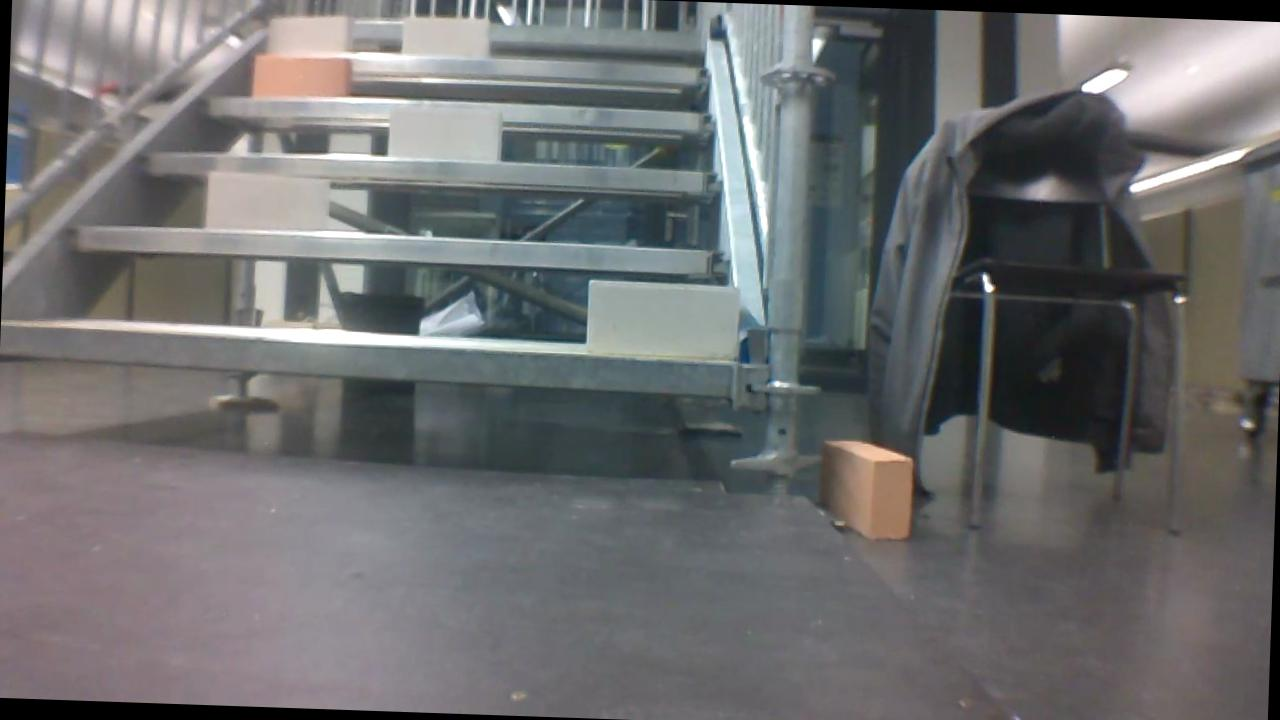brick: (587, 277, 739, 356), (208, 171, 327, 230), (387, 108, 502, 160), (253, 56, 351, 96), (402, 16, 487, 55), (269, 14, 350, 51)
edge: (1, 324, 735, 393), (63, 222, 733, 271), (136, 148, 724, 192), (200, 93, 717, 131), (245, 48, 709, 84), (263, 13, 705, 49)
